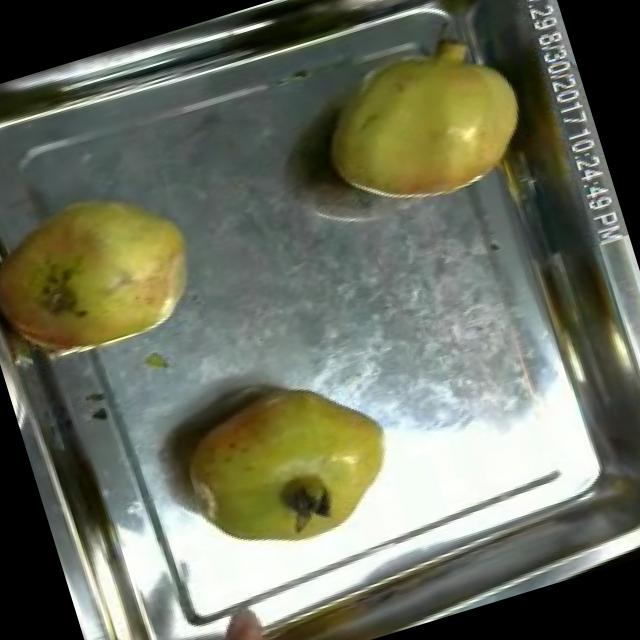fruit: (155, 350, 421, 579), (296, 17, 544, 234), (0, 157, 226, 392)
